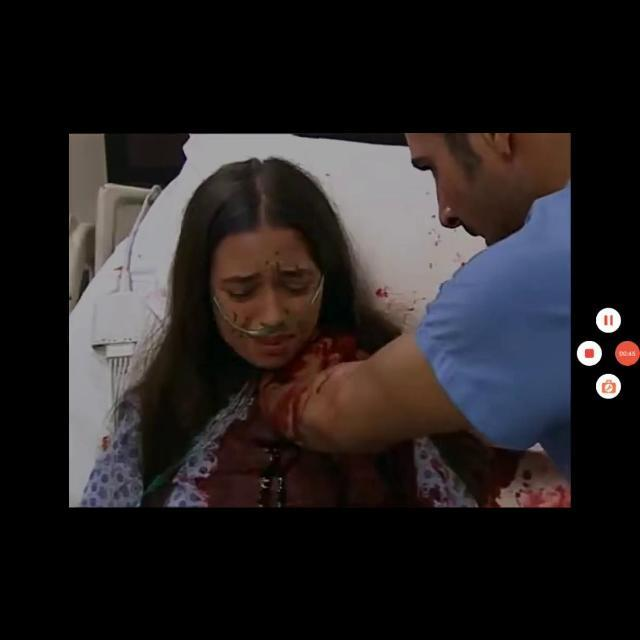blood: (199, 334, 571, 507), (214, 281, 322, 368)
